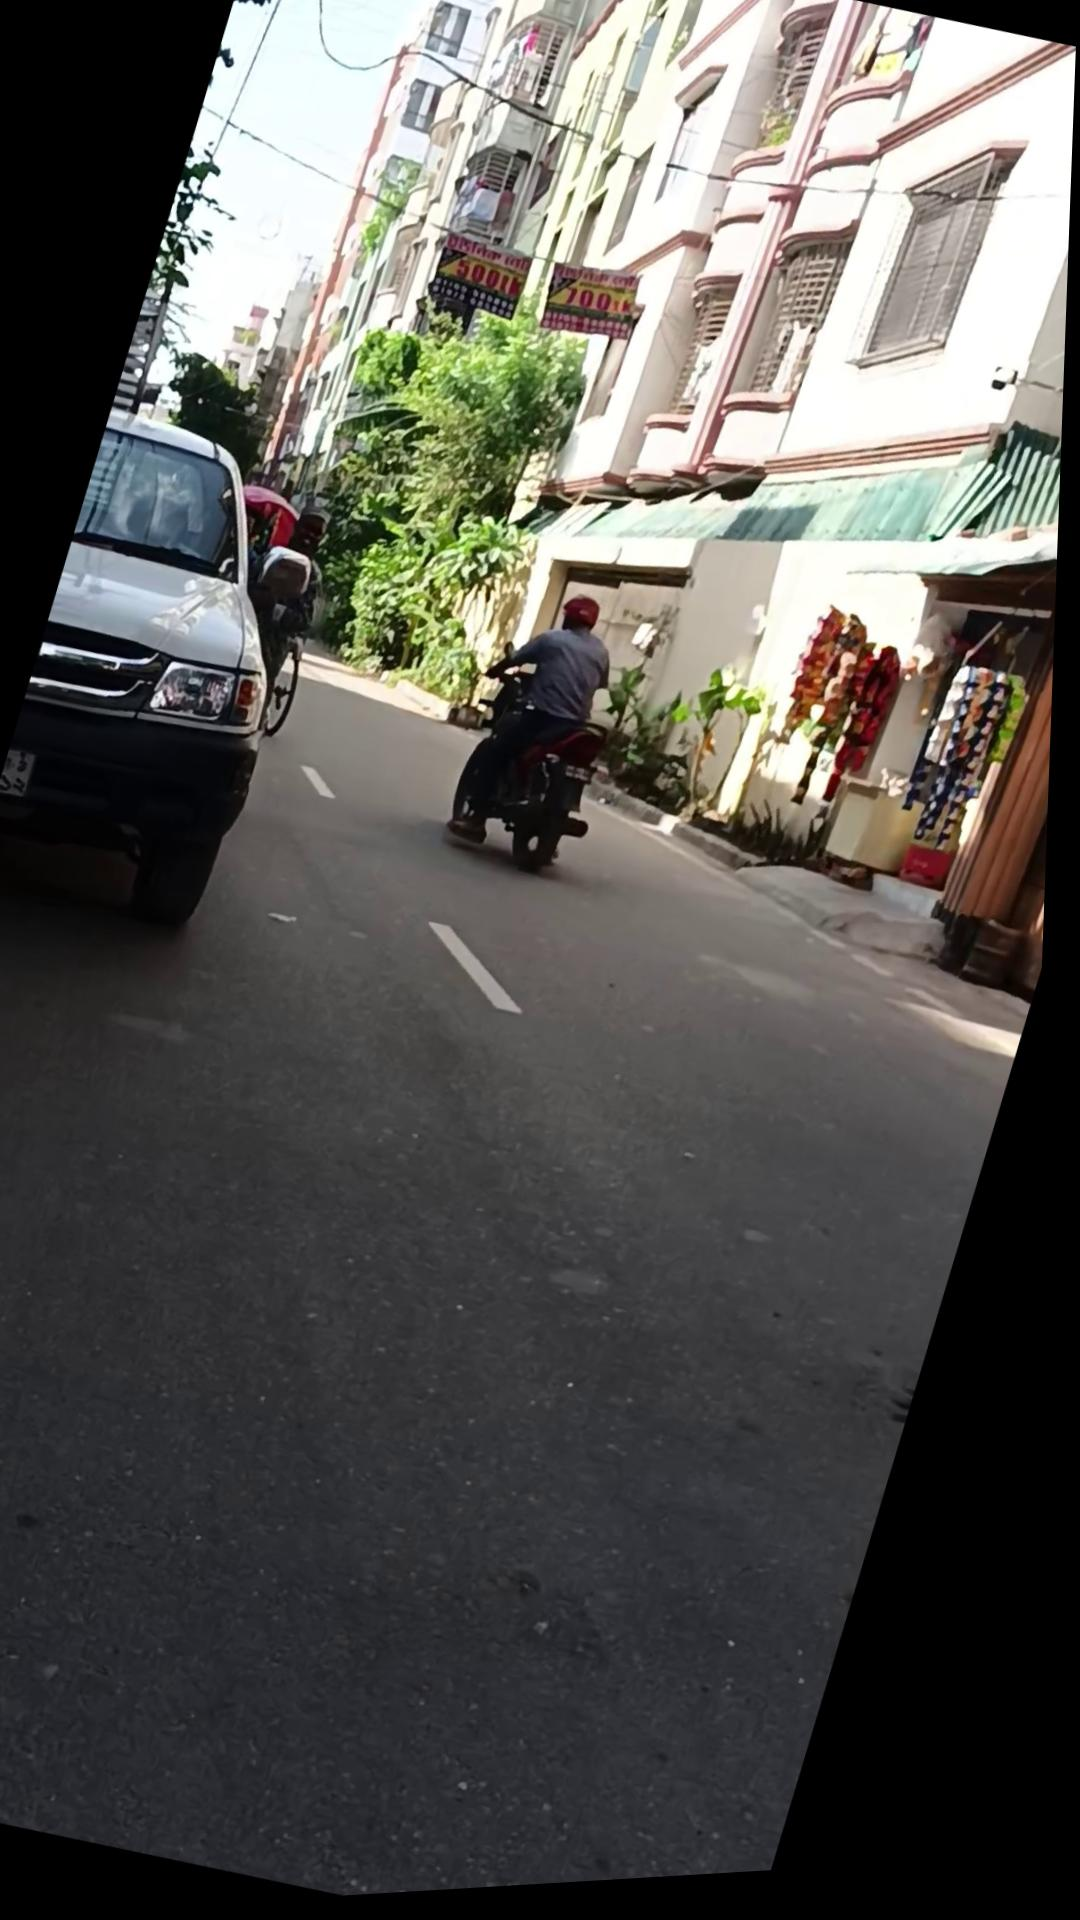Bollard: (0, 397, 357, 949)
Broken-road: (563, 764, 979, 995), (578, 774, 780, 894), (287, 634, 470, 736), (666, 820, 771, 887), (585, 778, 680, 840)
Construction-barrier: (434, 646, 640, 894)
Garbage: (723, 844, 967, 984)
Light-pole: (265, 253, 617, 729)
Obstacle: (701, 527, 949, 888), (625, 527, 795, 820)
